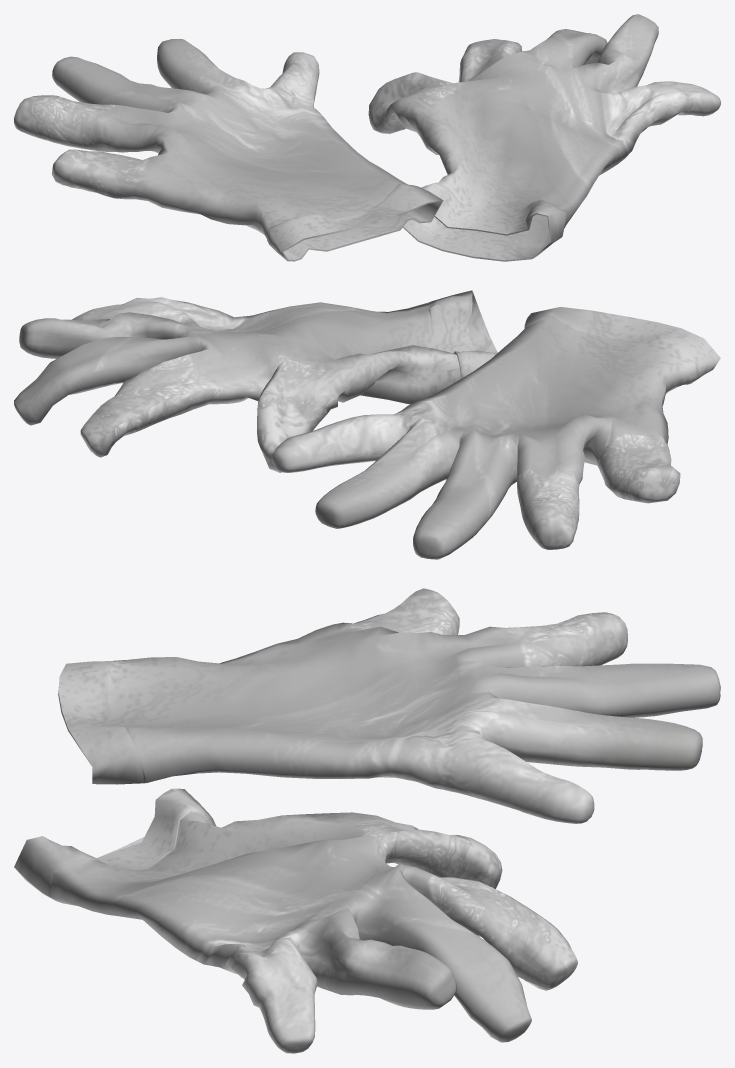
Rendered from Gloves Seperate.fbx.
The picture shows the model from 3 angles, top to bottom: view 1: azimuth 30°, elevation 25°; view 2: azimuth 150°, elevation 25°; view 3: azimuth 270°, elevation 25°; orthographic projection. The views are drawn at different scales.
Visible parts, largest first — view 1: GlovesLeft, GlovesRight; view 2: GlovesLeft, GlovesRight; view 3: GlovesLeft, GlovesRight.
Part boxes in pixels (x1,y1,x2,y2): GlovesLeft: (14, 39, 443, 261); GlovesRight: (368, 14, 720, 261); GlovesLeft: (271, 307, 720, 559); GlovesRight: (14, 290, 497, 472); GlovesLeft: (58, 588, 720, 823); GlovesRight: (14, 788, 577, 1053).
Bounding box in the file's own units: 9.39 × 1.28 × 7.14.
